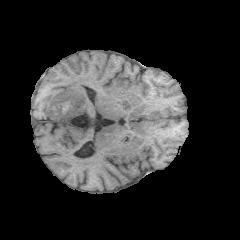glioma: (41, 78, 94, 120)
